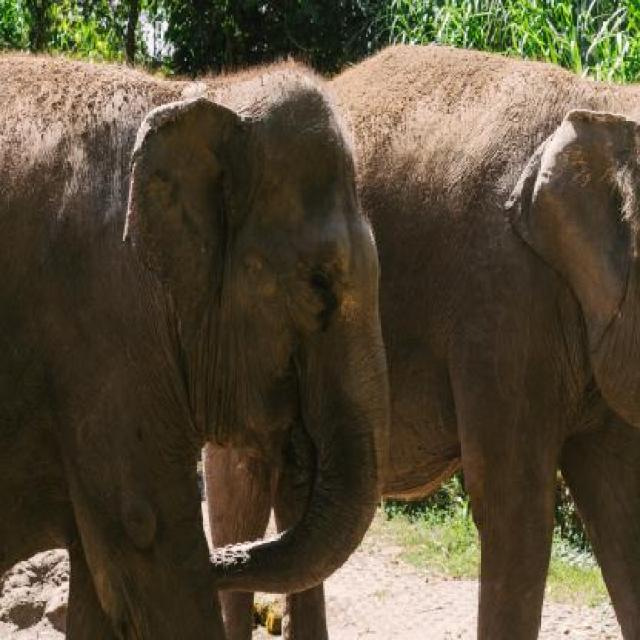Elephant: (0, 37, 406, 638)
